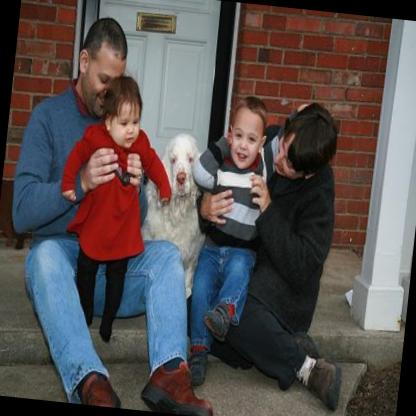clumber: (134, 127, 208, 293)
